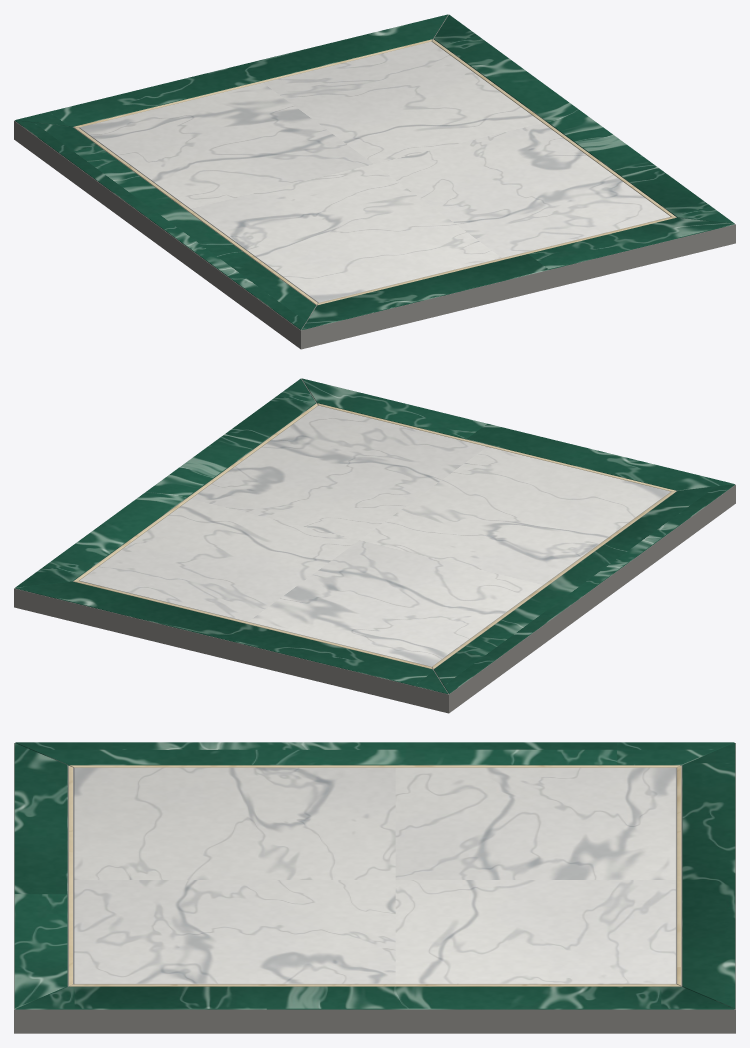
Rendered from floor_KA-DB004.glb.
3 views of the same model, one above another, from view 1: azimuth 30°, elevation 25°; view 2: azimuth 150°, elevation 25°; view 3: azimuth 270°, elevation 25° (orthographic). The views are drawn at different scales.
Visible parts, largest first — view 1: Floor; view 2: Floor; view 3: Floor.
Boxes of the visible parts, left/top/right/bottom form: Floor: left=14, top=14, right=735, bottom=349; Floor: left=14, top=378, right=735, bottom=713; Floor: left=14, top=742, right=735, bottom=1033.
Bounding box in the file's own units: 1.4 × 0.06 × 1.6.
4 materials, 3 textured.
